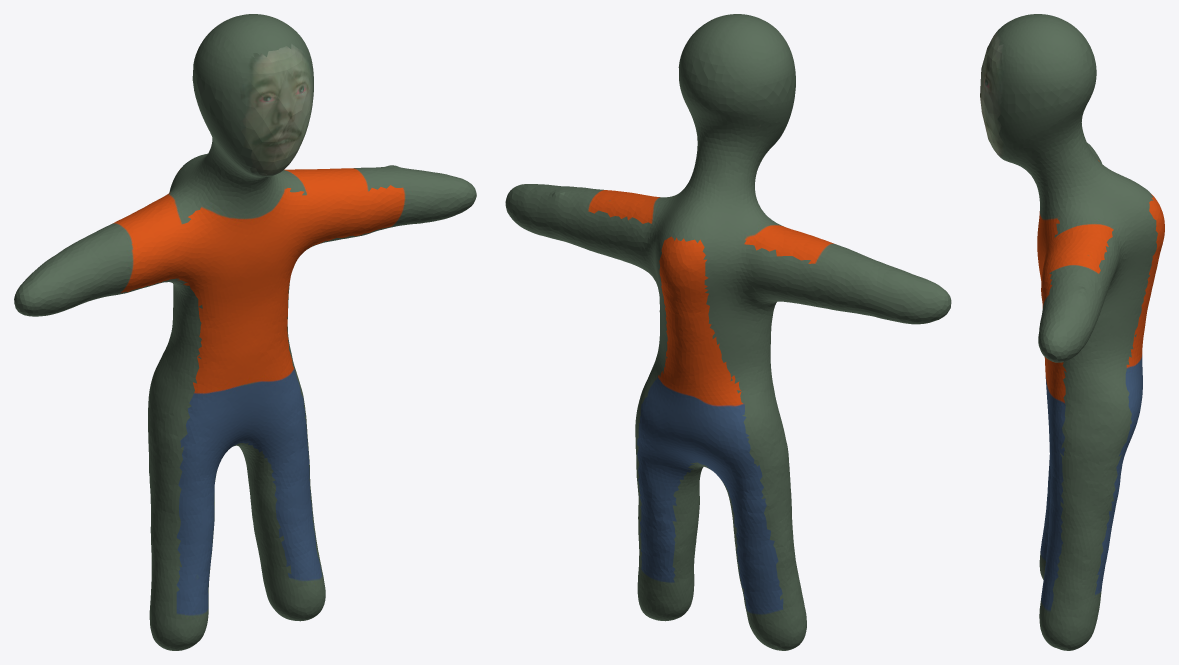
Rendered from Jeff zombie.fbx.
The picture shows the model from 3 angles, left to right: view 1: azimuth 30°, elevation 25°; view 2: azimuth 150°, elevation 25°; view 3: azimuth 270°, elevation 25°; orthographic projection. The views are drawn at different scales.
Parts seen in each view (by area): view 1: zombie teacher hunch; view 2: zombie teacher hunch; view 3: zombie teacher hunch.
Boxes of the visible parts, x1,y1,x2,y2 form: zombie teacher hunch: [14, 14, 476, 650]; zombie teacher hunch: [505, 14, 951, 650]; zombie teacher hunch: [980, 14, 1164, 650].
Bounding box in the file's own units: 828 × 1079 × 302.
